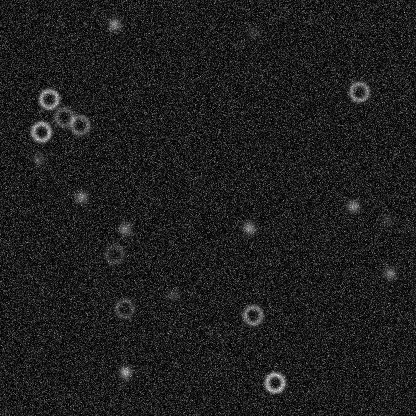Ring: (29, 119, 53, 143), (102, 242, 126, 266), (262, 370, 286, 394), (112, 296, 136, 320), (240, 303, 264, 327), (36, 86, 60, 110), (51, 104, 75, 128), (67, 112, 91, 136), (346, 79, 370, 103)
Spot: (240, 219, 256, 235), (345, 198, 361, 214), (165, 286, 181, 302), (381, 265, 397, 281), (116, 221, 132, 237), (30, 151, 46, 167), (379, 212, 395, 228), (117, 363, 133, 379), (106, 16, 122, 32), (73, 188, 89, 204), (244, 24, 260, 40)
